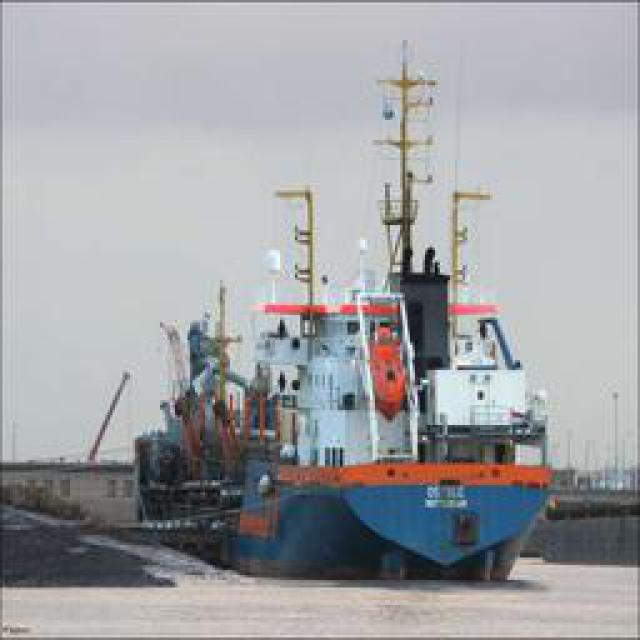Ship: (122, 89, 550, 584)
